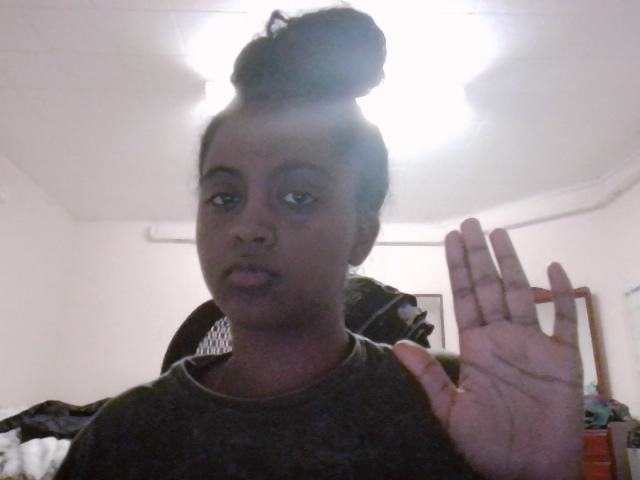hello: (389, 214, 587, 477)
